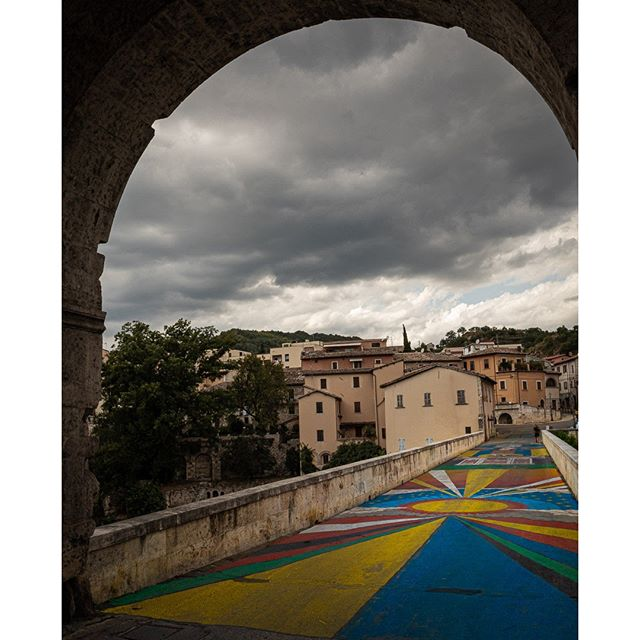building: (379, 371, 484, 474), (303, 365, 383, 461), (470, 347, 567, 414)
sky: (109, 28, 574, 322)
tree: (102, 318, 295, 519)
